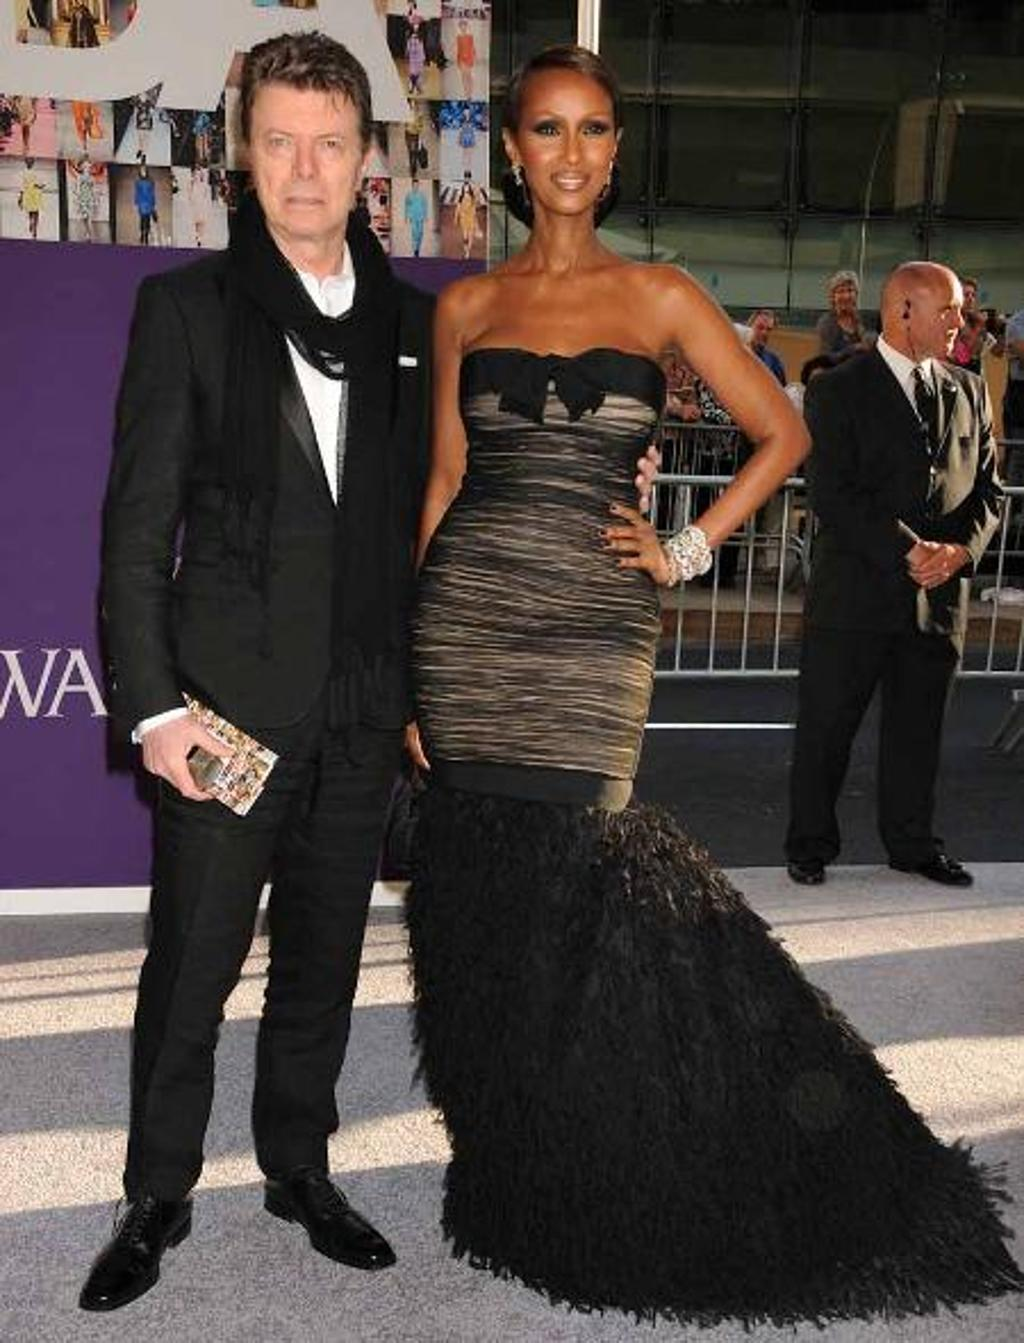face: (251, 87, 358, 234), (518, 74, 614, 214), (916, 280, 965, 357), (757, 315, 772, 346), (836, 286, 853, 309), (964, 285, 974, 308)
